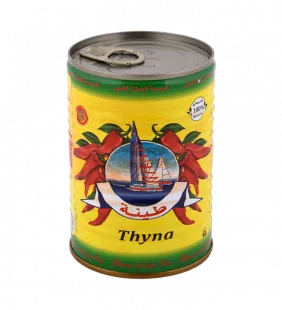Promotion: (59, 19, 228, 285)
